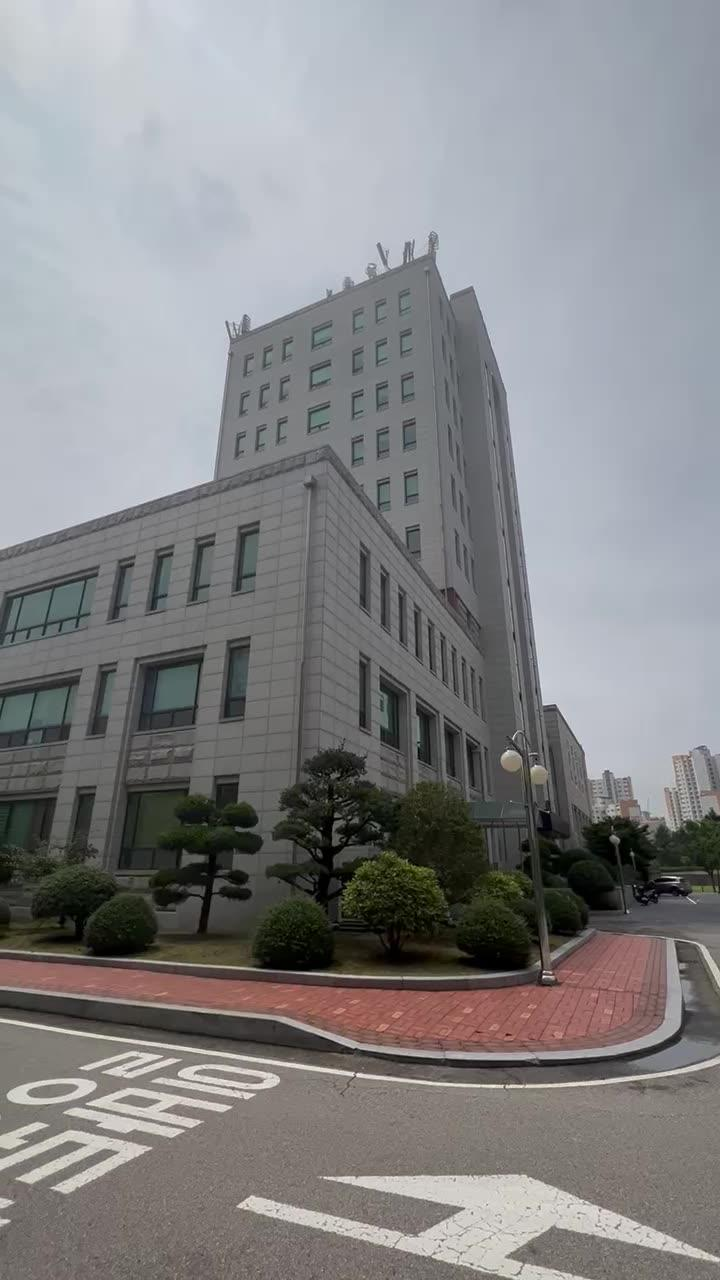building: (0, 260, 538, 748)
